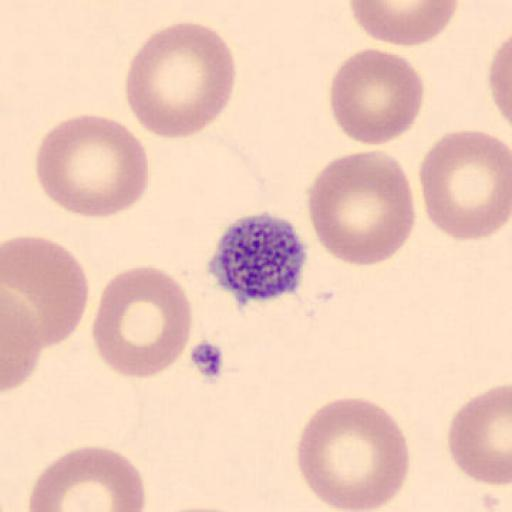Platelet: (205, 208, 311, 307)
RBC: (294, 396, 412, 512), (124, 20, 238, 140), (305, 149, 416, 267), (34, 113, 151, 220), (90, 265, 194, 380), (418, 128, 512, 242), (2, 234, 90, 348), (329, 45, 425, 147), (28, 443, 147, 512), (446, 382, 512, 486), (346, 0, 460, 47), (2, 286, 42, 394), (488, 33, 512, 129), (154, 503, 249, 512)
